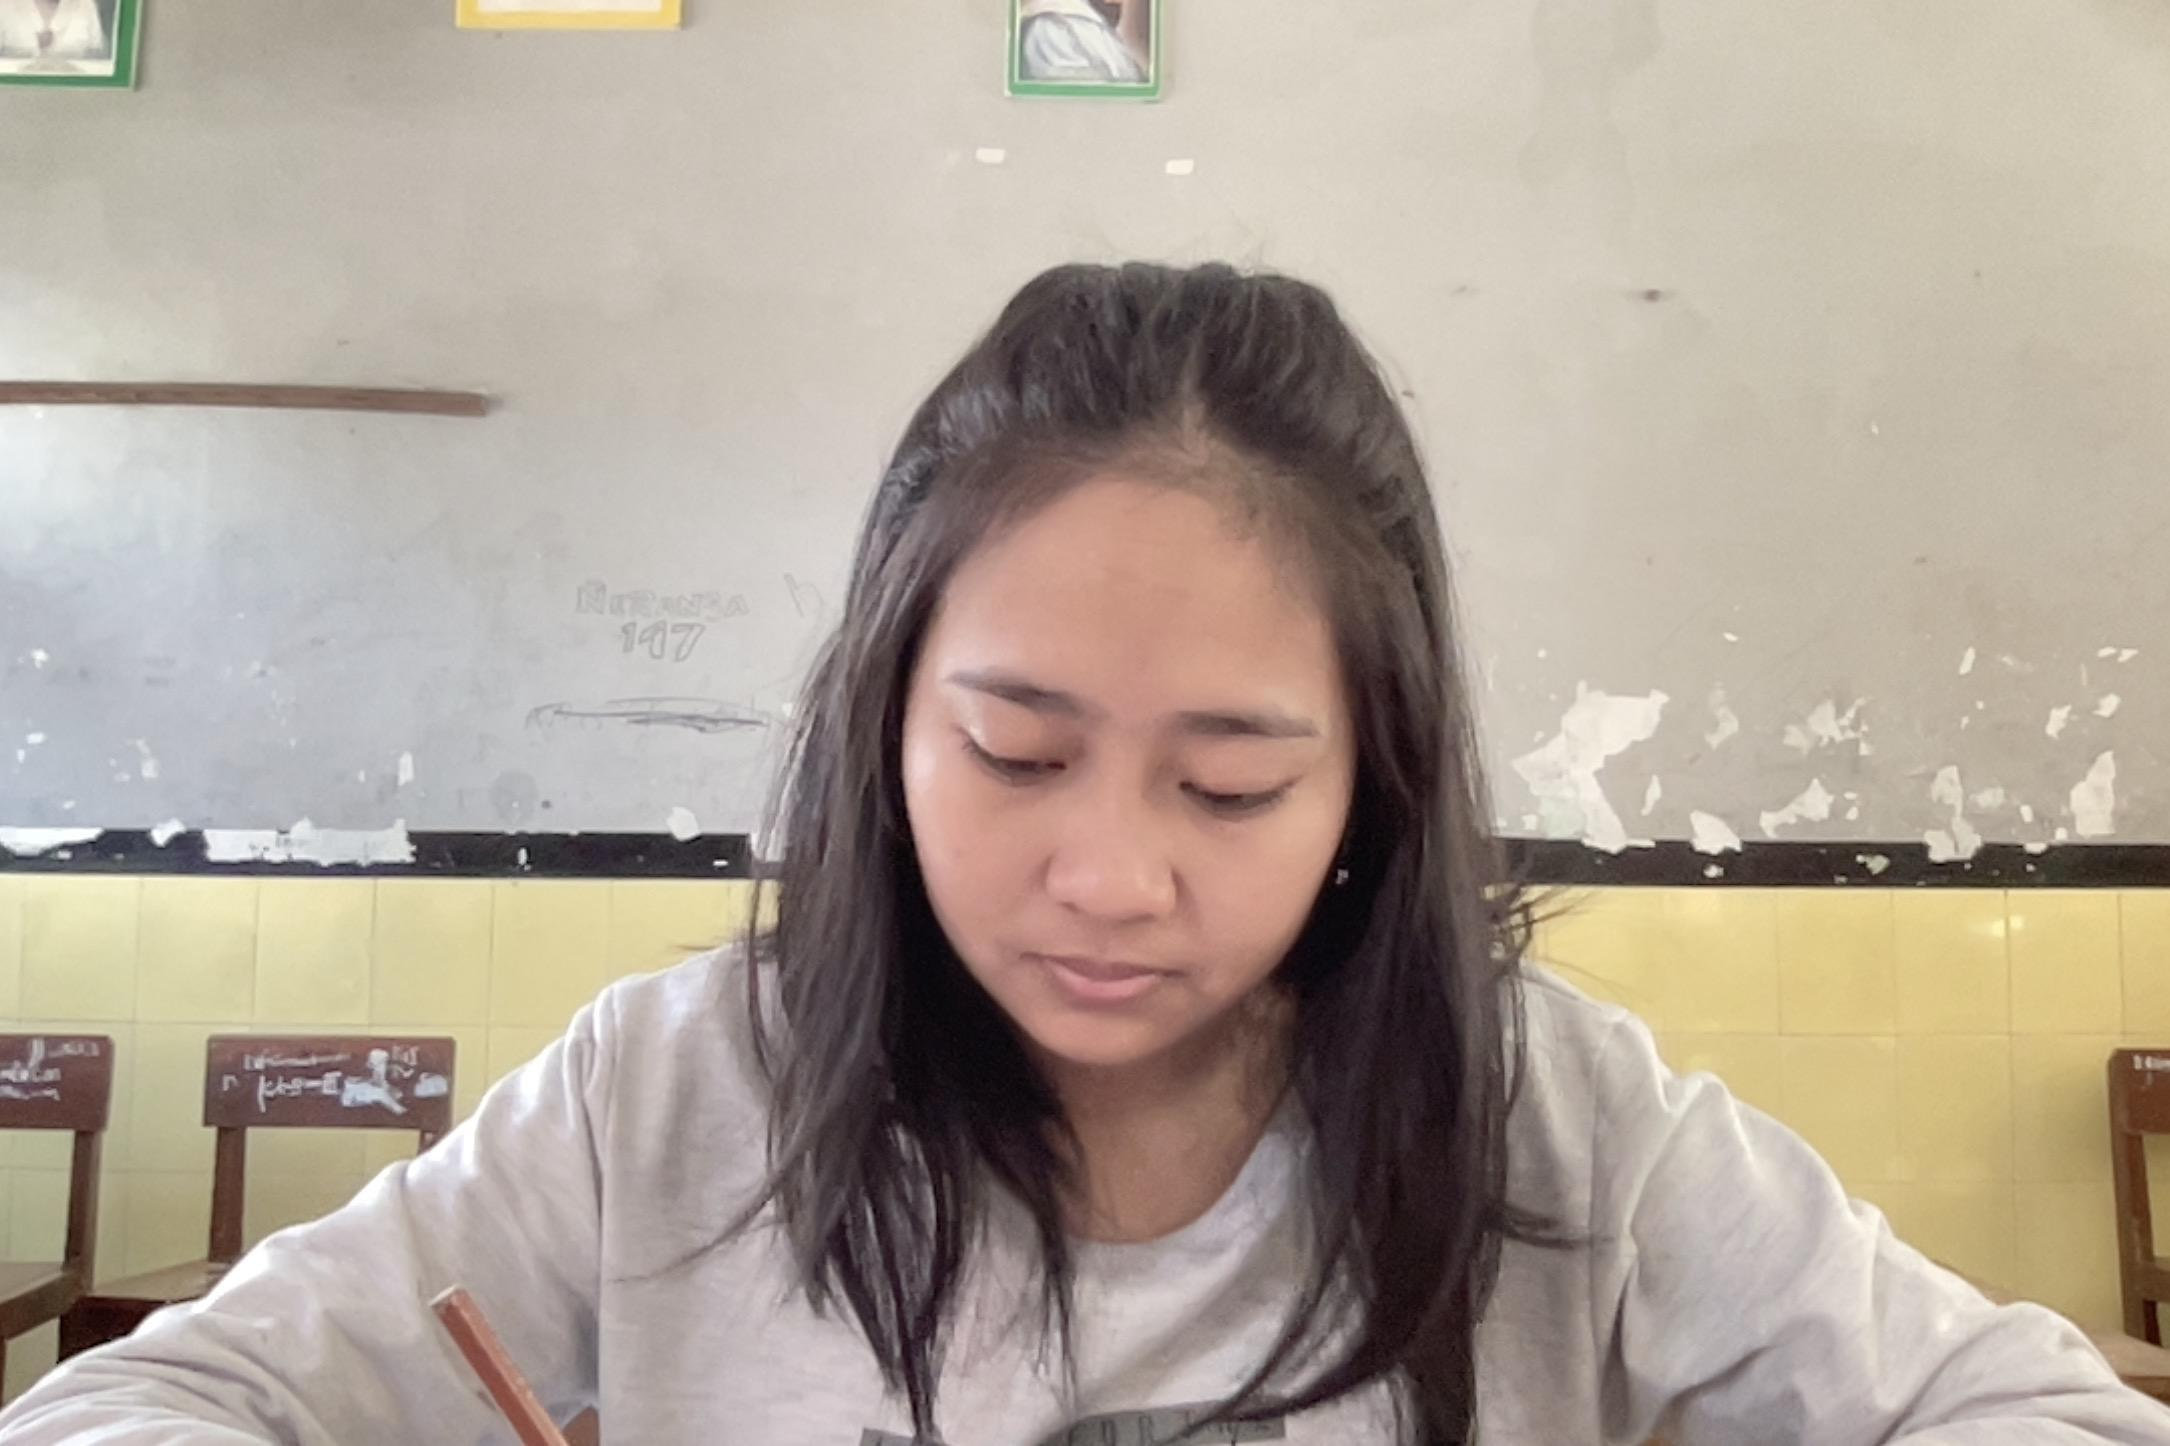good: (8, 218, 2170, 1446)
